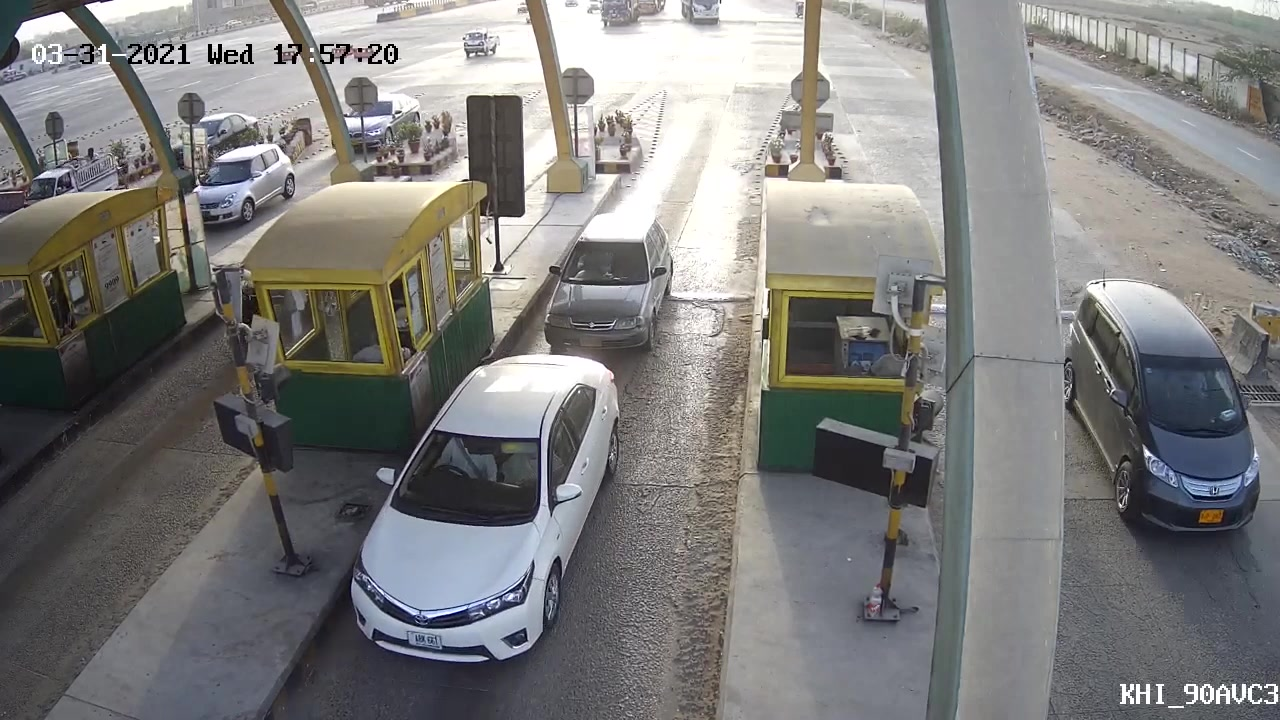F1: (337, 345, 630, 673), (538, 210, 685, 350)
